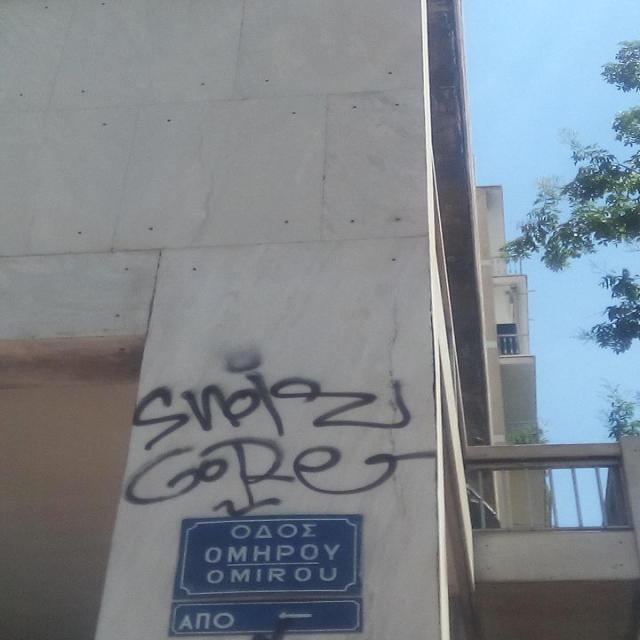nonspitting: (122, 350, 436, 514)
